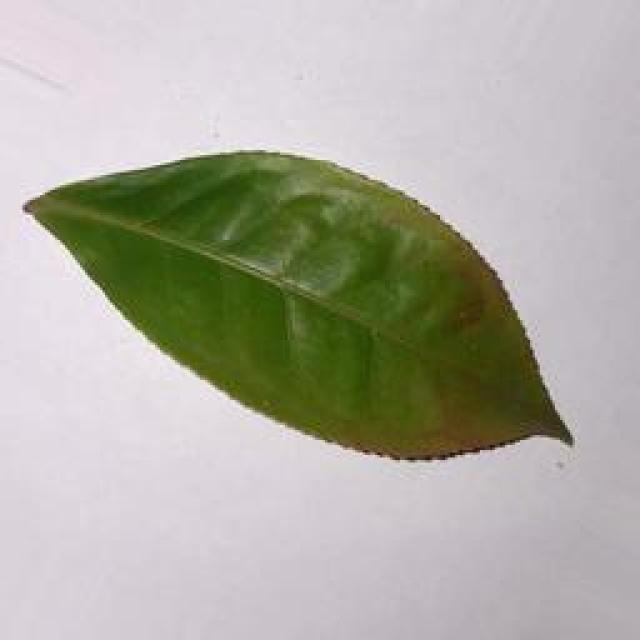Red Leaf Spot: (16, 144, 586, 470)
